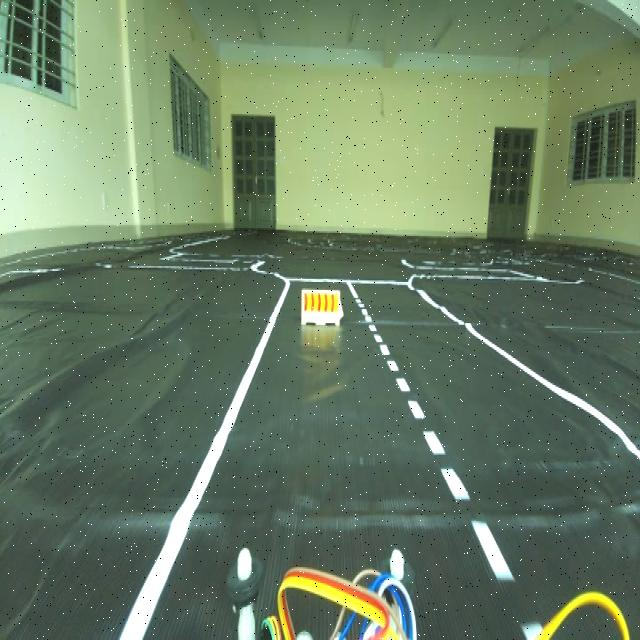roadblock: (297, 284, 348, 340)
